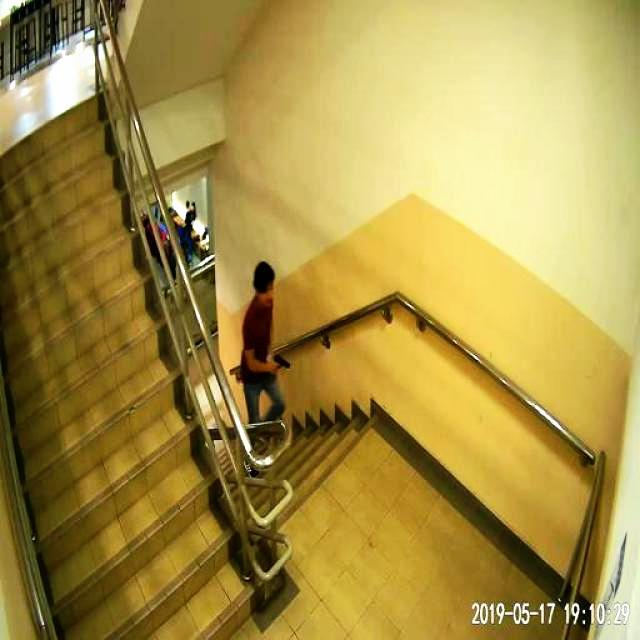Gun: (266, 342, 299, 382)
